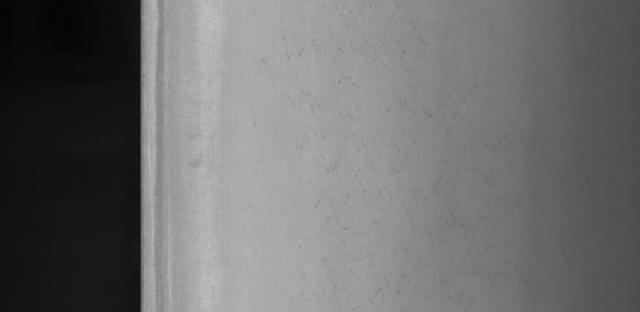silk_spot: (281, 39, 445, 256)
